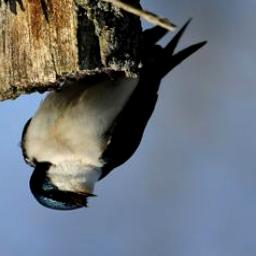Swallow: (22, 17, 209, 212)
